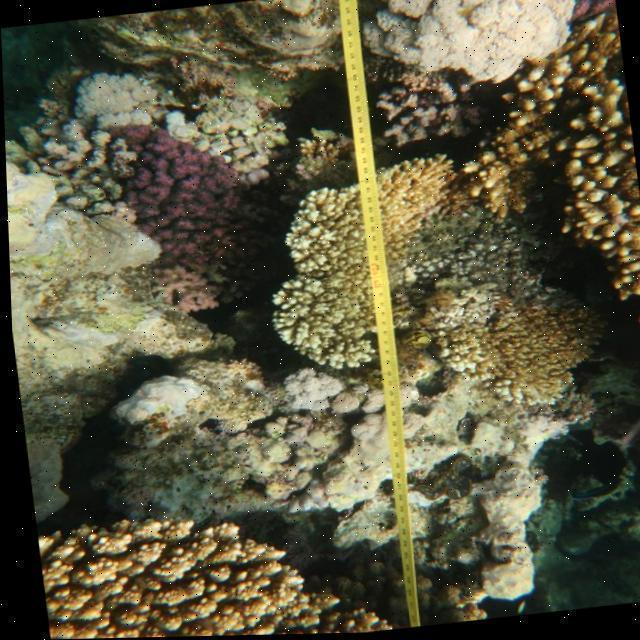Bleached Coral: (368, 0, 583, 81)
Healthy Coral: (39, 520, 328, 640), (107, 104, 248, 278)
